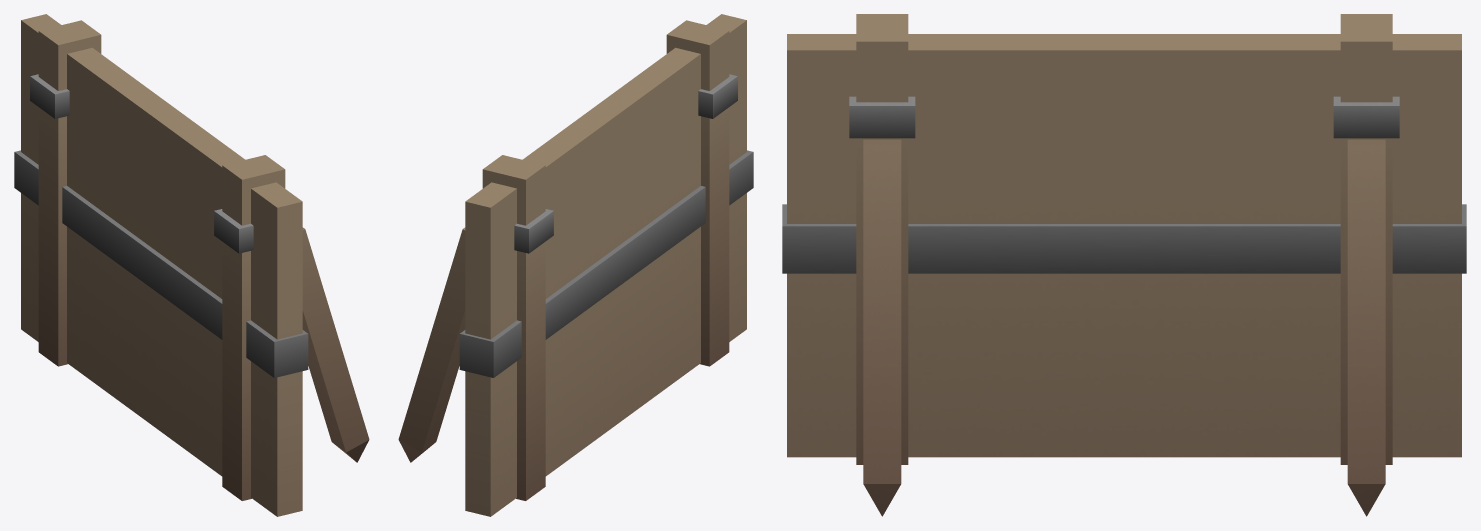
Rendered from ItemProps_Wallt.fbx.
The picture shows the model from 3 angles, left to right: view 1: azimuth 30°, elevation 25°; view 2: azimuth 150°, elevation 25°; view 3: azimuth 270°, elevation 25°; orthographic projection. The views are drawn at different scales.
Visible parts, largest first — view 1: Cube.001; view 2: Cube.001; view 3: Cube.001.
Part boxes in pixels (x1=…): Cube.001: x1=14, y1=14, x2=369, y2=516; Cube.001: x1=398, y1=14, x2=753, y2=516; Cube.001: x1=782, y1=14, x2=1466, y2=516.
Size of the model in its own units: 91.91 by 208 by 305.
